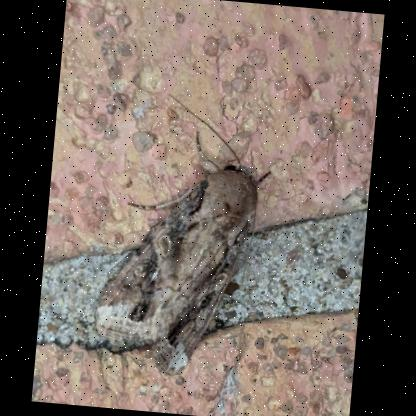Fall Armyworm Moth: (89, 86, 280, 388)
